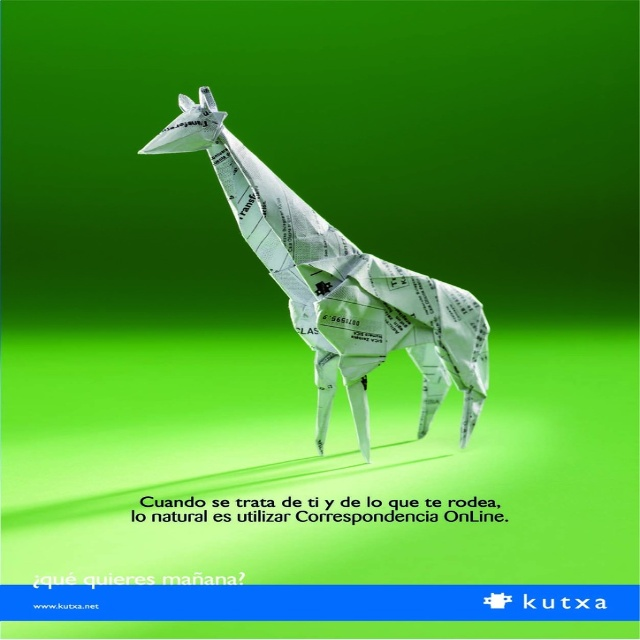Giraffe: (140, 85, 487, 459)
